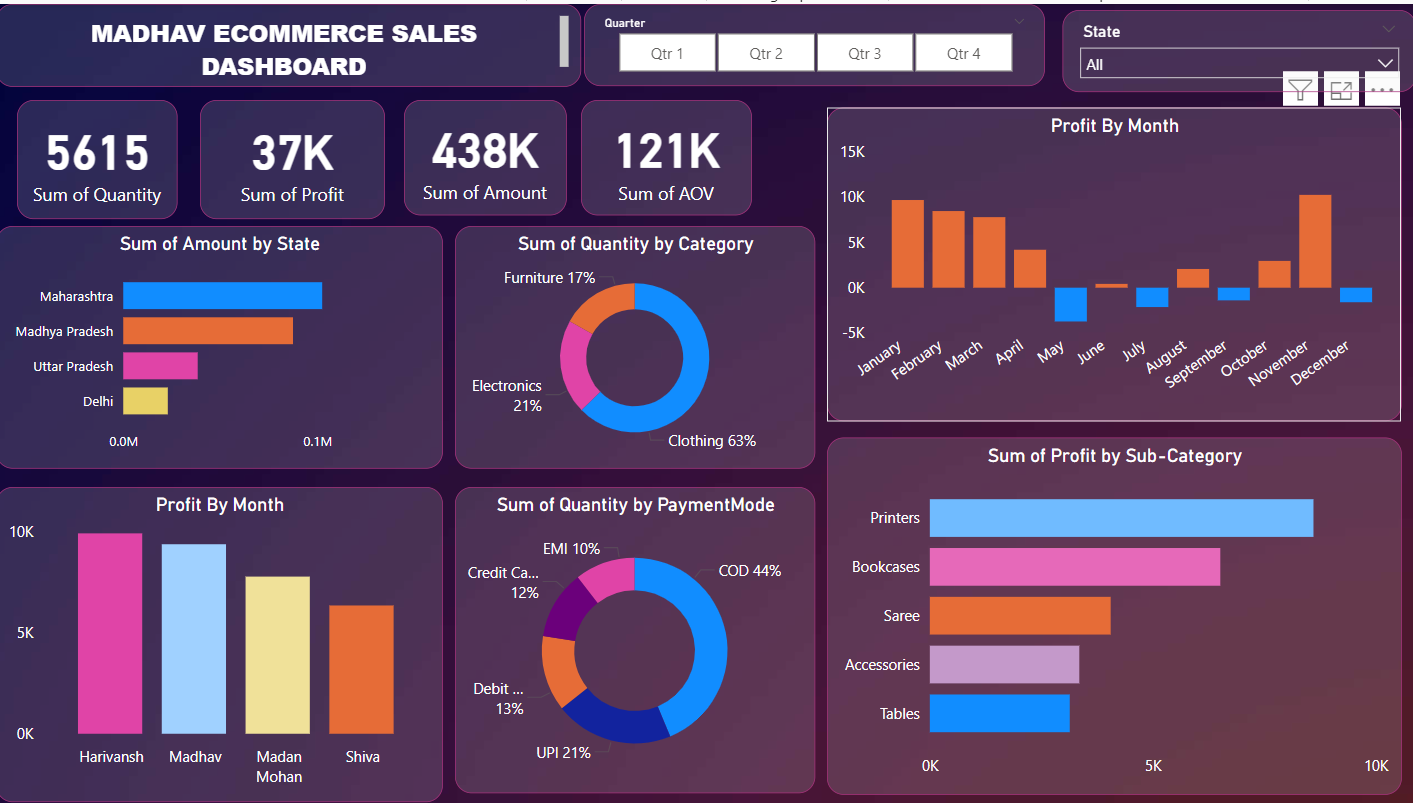

This screenshot's page, from the dashboard's own definition file:
{"tool":"powerbi","page":{"name":"Page 1","canvas":[1280,720],"ordinal":0},"visuals":[{"type":"textbox","box":[0,0,527.2,74.3],"z":0},{"type":"columnChart","title":"Profit By Month","fields":{"Y":["Details.Profit"],"Category":["Orders.Order Date.Variation.Date Hierarchy.Month"]},"box":[748.9,93.3,517.7,282.5],"z":1000},{"type":"barChart","fields":{"Category":["Details.Sub-Category"],"Y":["Details.Profit"]},"box":[748.9,390.6,517.7,321.7],"z":2000},{"type":"donutChart","fields":{"Category":["Details.Category"],"Y":["Details.Quantity"]},"box":[413.5,200.3,324.5,218.8],"z":3000},{"type":"donutChart","fields":{"Y":["Details.Quantity"],"Category":["Details.PaymentMode"]},"box":[413.5,435.7,324.5,276.3],"z":4000},{"type":"card","fields":{"Values":["Details.Amount"]},"box":[367.1,87.1,146.5,103.8],"z":5000},{"type":"card","fields":{"Values":["Details.Quantity"]},"box":[18.5,87.1,144.6,107.5],"z":6000},{"type":"card","fields":{"Values":["Details.Profit"]},"box":[183.6,87.1,166.9,107.5],"z":7000},{"type":"card","fields":{"Values":["Details.AOV"]},"box":[527.2,86.5,154.1,104.1],"z":8000},{"type":"columnChart","title":"Profit By Month","fields":{"Category":["Orders.CustomerName"],"Y":["Details.Amount"]},"box":[0,435.7,402.4,283.7],"z":9000},{"type":"barChart","fields":{"Category":["Orders.State"],"Y":["Details.Amount"]},"box":[0,200.3,402.4,218.8],"z":10000},{"type":"slicer","fields":{"Values":["Orders.Order Date.Variation.Date Hierarchy.Quarter"]},"box":[530.3,0,415.3,74.2],"z":11000},{"type":"slicer","fields":{"Values":["Orders.State"]},"box":[960.5,5.6,318.9,74.2],"z":12000}]}

Visuals, with their boxes in screenshot pixels (x1, y1, x2, y2), scaled from the page's 1280x720 canvas onto the 1413x803 screenshot:
textbox: 0/0/582/83
"Profit By Month" columnChart: 827/104/1398/419
barChart - Details.Sub-Category x Details.Profit: 827/436/1398/794
donutChart - Details.Category x Details.Quantity: 456/223/815/467
donutChart - Details.Quantity x Details.PaymentMode: 456/486/815/794
card - Details.Amount: 405/97/567/213
card - Details.Quantity: 20/97/180/217
card - Details.Profit: 203/97/387/217
card - Details.AOV: 582/96/752/213
"Profit By Month" columnChart: 0/486/444/802
barChart - Orders.State x Details.Amount: 0/223/444/467
slicer - Orders.Order Date.Variation.Date Hierarchy.Quarter: 585/0/1044/83
slicer - Orders.State: 1060/6/1412/89
